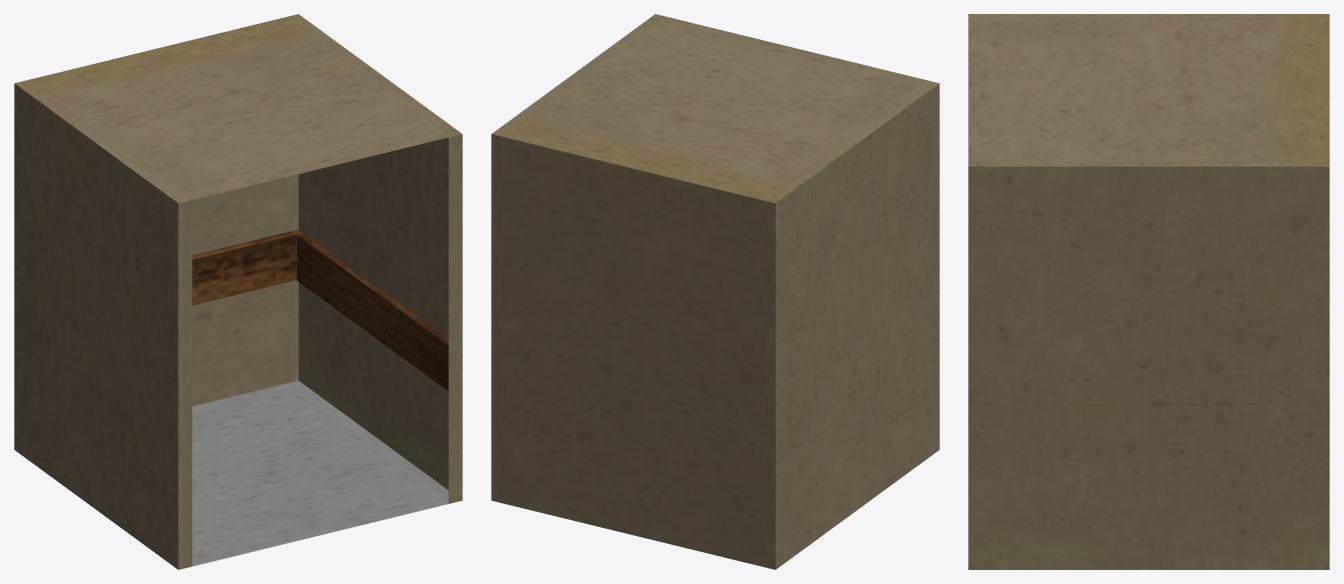
Rendered from BodyElevator2.fbx.
The picture shows the model from 3 angles, left to right: view 1: azimuth 30°, elevation 25°; view 2: azimuth 150°, elevation 25°; view 3: azimuth 270°, elevation 25°; orthographic projection. The views are drawn at different scales.
Parts seen in each view (by area): view 1: Cube; view 2: Cube; view 3: Cube.
Part boxes in pixels (x1,y1,x2,y2): Cube: (14,14,462,569); Cube: (491,14,939,569); Cube: (968,14,1329,569).
Size of the model in its own units: 200 by 246 by 200.
1 material, 1 textured.
